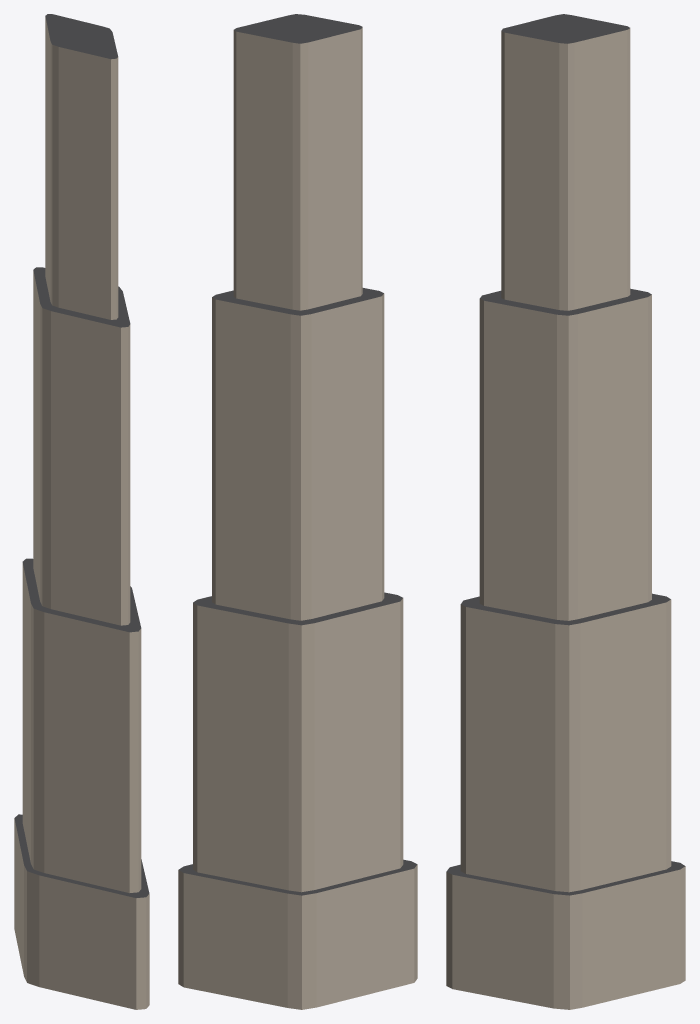
The model's file is chelsea-waterfront-tower-west.glb.
3 views of the same model, side by side, from view 1: azimuth 90°, elevation 25°; view 2: azimuth 150°, elevation 25°; view 3: azimuth 330°, elevation 25° (orthographic). The views are drawn at different scales.
Visible parts, largest first — view 1: chelsea-waterfront-tower-west-1, chelsea-waterfront-tower-west-2, chelsea-waterfront-tower-west-3, chelsea-waterfront-tower-west-0; view 2: chelsea-waterfront-tower-west-1, chelsea-waterfront-tower-west-2, chelsea-waterfront-tower-west-3, chelsea-waterfront-tower-west-0; view 3: chelsea-waterfront-tower-west-1, chelsea-waterfront-tower-west-2, chelsea-waterfront-tower-west-3, chelsea-waterfront-tower-west-0.
Boxes of the visible parts, x1,y1,x2,y2 form: chelsea-waterfront-tower-west-1: (22, 558, 141, 892); chelsea-waterfront-tower-west-2: (33, 267, 130, 625); chelsea-waterfront-tower-west-3: (45, 14, 118, 319); chelsea-waterfront-tower-west-0: (14, 814, 149, 1009); chelsea-waterfront-tower-west-1: (193, 592, 403, 892); chelsea-waterfront-tower-west-2: (212, 288, 384, 620); chelsea-waterfront-tower-west-3: (233, 14, 362, 310); chelsea-waterfront-tower-west-0: (178, 859, 417, 1009); chelsea-waterfront-tower-west-1: (460, 593, 671, 892); chelsea-waterfront-tower-west-2: (479, 288, 651, 620); chelsea-waterfront-tower-west-3: (501, 14, 630, 310); chelsea-waterfront-tower-west-0: (446, 861, 685, 1009).
Bounding box in the file's own units: 0.3144 × 1.63 × 0.2142.
